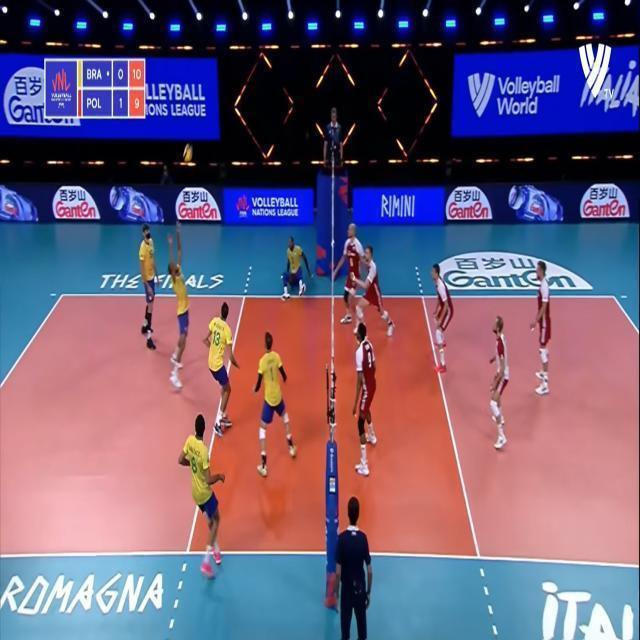volleyball: (183, 144, 193, 162)
